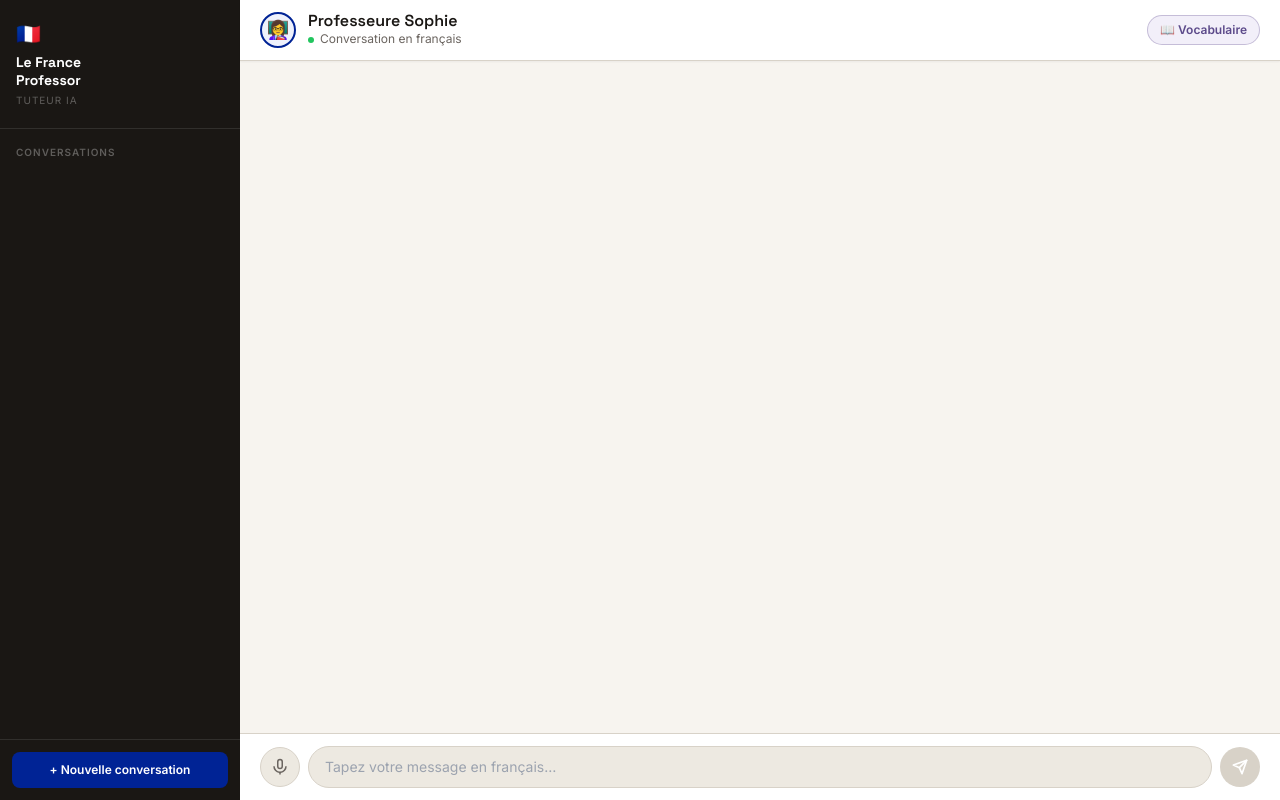
ChatClient › enables the submit button once the user types
Type "Bonjour" into the field at (760, 767), box 308,746 -> 1212,788
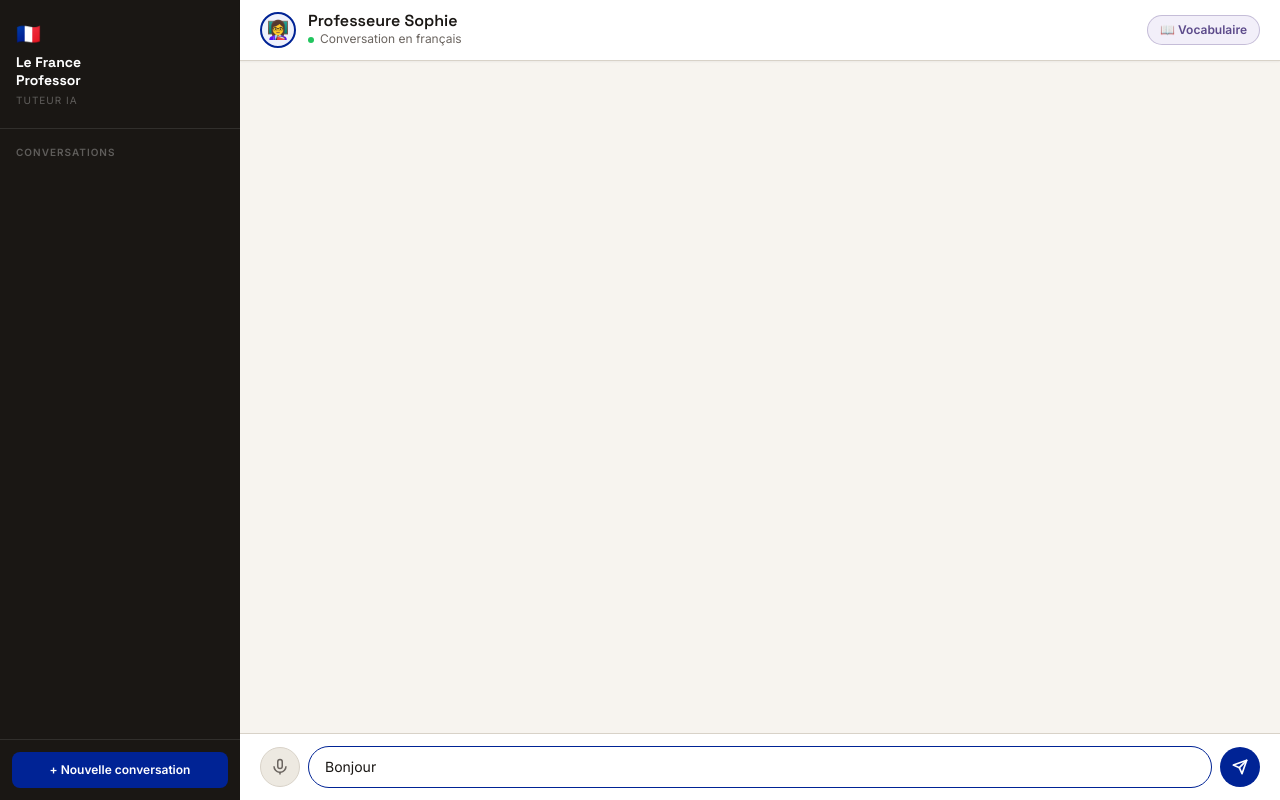
Check: the button named "Envoyer" is enabled, box 1220,747 -> 1260,787
